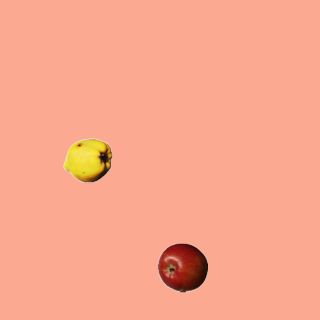Apple Braeburn: (157, 242, 207, 292)
Quince: (62, 135, 112, 185)
